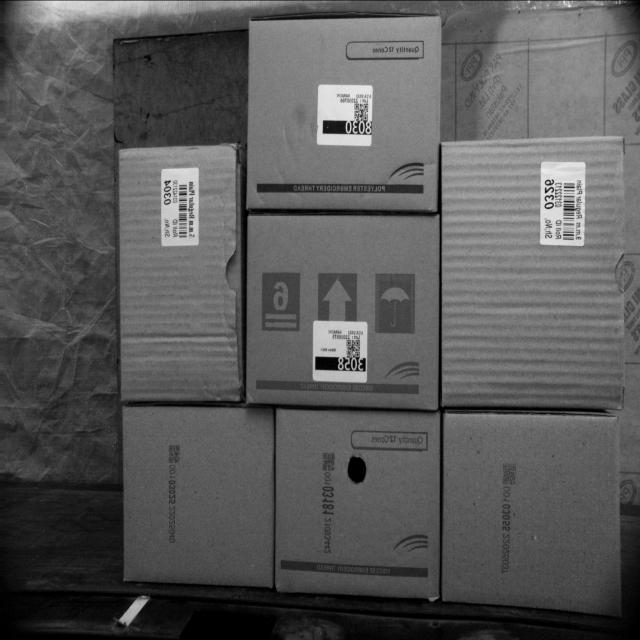cardboxes: (442, 135, 626, 411), (246, 12, 444, 206), (247, 208, 442, 404), (440, 413, 622, 620), (273, 401, 441, 597), (118, 140, 238, 409), (124, 409, 274, 581)
